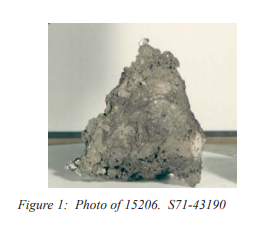Breccia: (47, 25, 229, 186)
